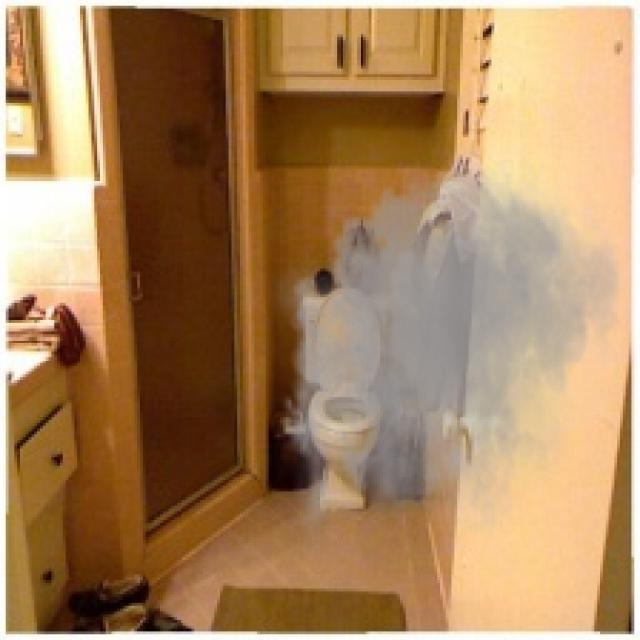Smoke: (266, 137, 634, 554)
